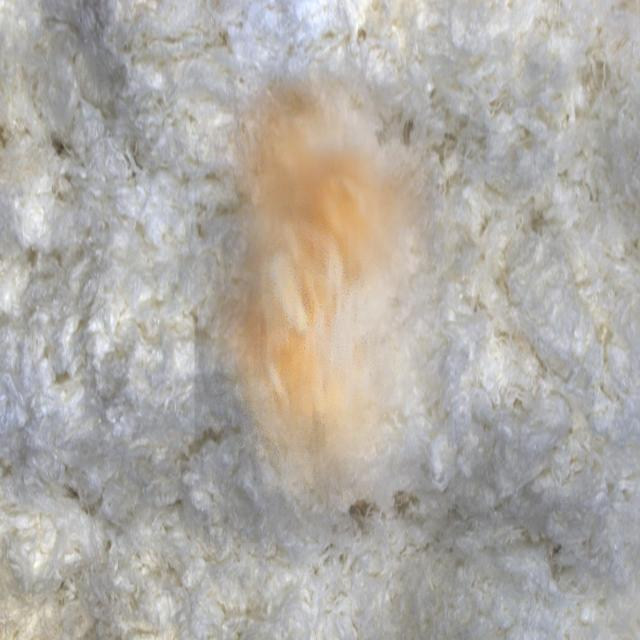dust: (195, 67, 455, 544)
